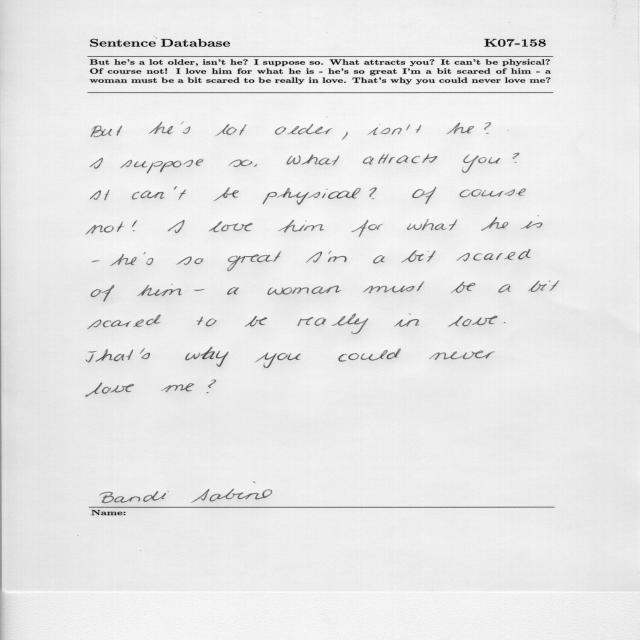word: (263, 188, 361, 205), (298, 314, 369, 334), (120, 159, 203, 173), (88, 315, 161, 330), (227, 251, 281, 271), (457, 250, 531, 262), (185, 347, 229, 367), (363, 154, 438, 165), (338, 349, 401, 362), (85, 382, 134, 397), (363, 281, 424, 293), (462, 154, 500, 173), (132, 187, 186, 200), (256, 353, 301, 368), (268, 286, 342, 295), (430, 350, 495, 360), (275, 124, 332, 135), (86, 349, 133, 362), (459, 189, 526, 198), (407, 219, 457, 231), (278, 220, 324, 233), (368, 124, 422, 135), (287, 155, 339, 166), (351, 220, 383, 237), (137, 284, 182, 296), (449, 316, 498, 327), (86, 222, 124, 235), (209, 221, 252, 232), (401, 250, 436, 263), (413, 187, 437, 204), (91, 285, 115, 302), (215, 124, 247, 136), (481, 217, 508, 231), (91, 126, 122, 138), (213, 187, 239, 201), (528, 281, 559, 292), (394, 314, 419, 327), (447, 123, 474, 135), (110, 254, 137, 266), (521, 215, 543, 229), (161, 383, 194, 392), (149, 122, 173, 134), (451, 282, 476, 293), (177, 256, 204, 265), (245, 316, 267, 327), (168, 220, 185, 233), (328, 251, 347, 262), (90, 190, 110, 200), (197, 317, 217, 327), (229, 160, 253, 168), (306, 251, 322, 263), (90, 158, 103, 169), (144, 252, 154, 265), (206, 380, 216, 393), (498, 284, 511, 293), (140, 348, 150, 359), (373, 255, 385, 264), (227, 287, 239, 295), (484, 122, 491, 134), (370, 187, 377, 199), (513, 153, 520, 163), (132, 220, 138, 231), (183, 126, 190, 134), (342, 132, 348, 140), (194, 289, 205, 291), (92, 261, 100, 263), (181, 122, 184, 125), (254, 164, 257, 167), (504, 322, 506, 323)
